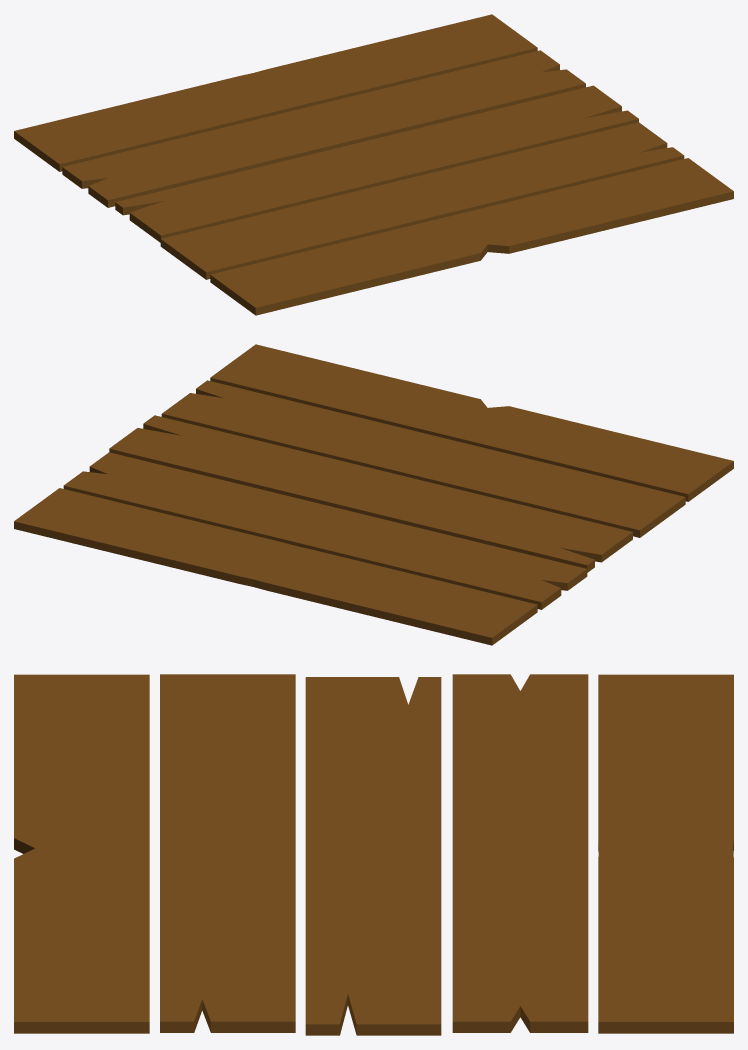
Rendered from Planks.glb.
The picture shows the model from 3 angles, top to bottom: view 1: azimuth 30°, elevation 25°; view 2: azimuth 150°, elevation 25°; view 3: azimuth 270°, elevation 25°; orthographic projection. The views are drawn at different scales.
Visible parts, largest first — view 1: wood_ground_1, wood_ground_2, wood_ground_3, wood_ground_5, wood_ground_4; view 2: wood_ground_5, wood_ground_4, wood_ground_3, wood_ground_2, wood_ground_1; view 3: wood_ground_5, wood_ground_1, wood_ground_2, wood_ground_4, wood_ground_3.
Boxes of the visible parts, x1=… form: wood_ground_1: x1=210, y1=158, x2=733, y2=315; wood_ground_2: x1=62, y1=50, x2=585, y2=207; wood_ground_3: x1=160, y1=122, x2=684, y2=279; wood_ground_5: x1=14, y1=14, x2=537, y2=171; wood_ground_4: x1=115, y1=85, x2=638, y2=242; wood_ground_5: x1=14, y1=488, x2=537, y2=645; wood_ground_4: x1=109, y1=415, x2=632, y2=572; wood_ground_3: x1=161, y1=380, x2=685, y2=537; wood_ground_2: x1=63, y1=452, x2=587, y2=609; wood_ground_1: x1=210, y1=344, x2=733, y2=501; wood_ground_5: x1=598, y1=674, x2=733, y2=1033; wood_ground_1: x1=14, y1=674, x2=149, y2=1033; wood_ground_2: x1=452, y1=674, x2=588, y2=1032; wood_ground_4: x1=305, y1=677, x2=441, y2=1035; wood_ground_3: x1=160, y1=674, x2=295, y2=1032.
Size of the model in its own units: 4.03 by 0.0614 by 3.5.
Materials: 1 (1 with a texture image).
